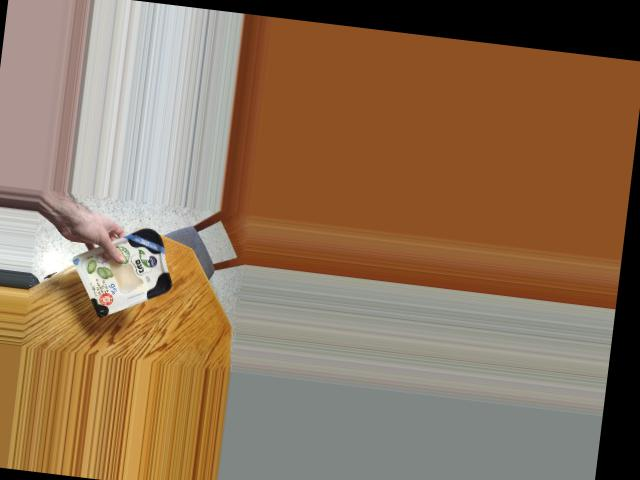cheese: (78, 223, 176, 319)
